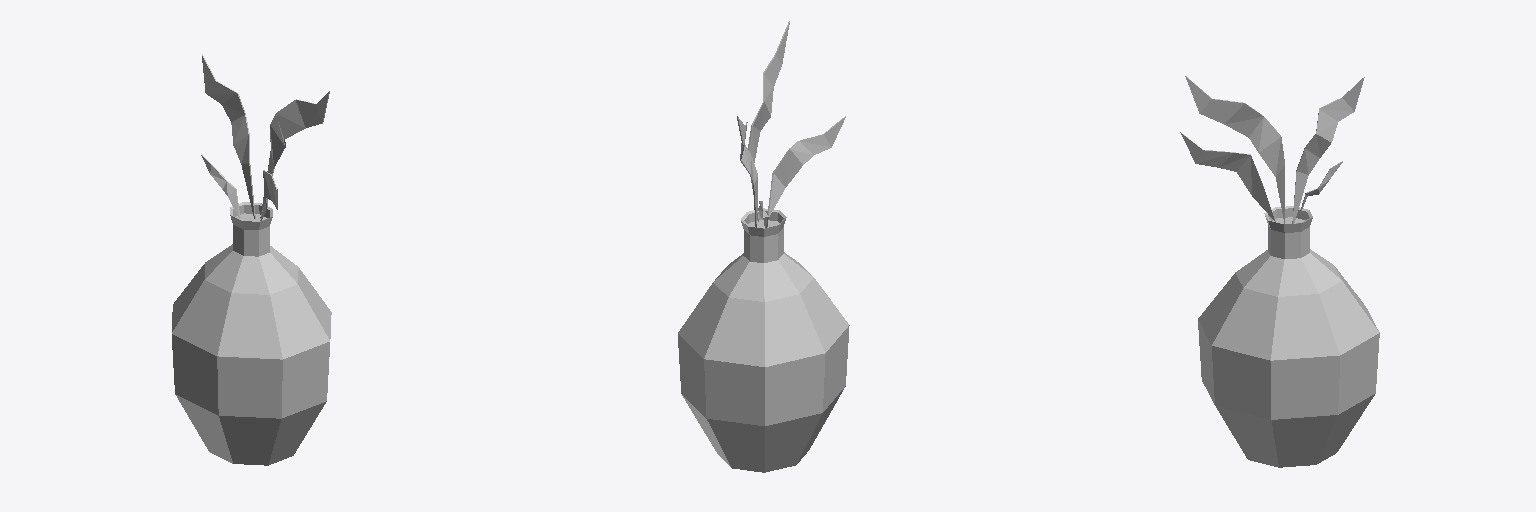
File: Planta02.obj
3 renders of one model, left to right at view 1: azimuth 30°, elevation 25°; view 2: azimuth 150°, elevation 25°; view 3: azimuth 270°, elevation 25°, orthographic.
Parts seen in each view (by area): view 1: Planta2; view 2: Planta2; view 3: Planta2.
Boxes of the visible parts, box(x1,y1,x2,y2) form: Planta2: box(172, 54, 331, 465); Planta2: box(678, 21, 849, 472); Planta2: box(1180, 76, 1379, 467).
Bounding box in the file's own units: 0.1871 × 0.4871 × 0.2278.